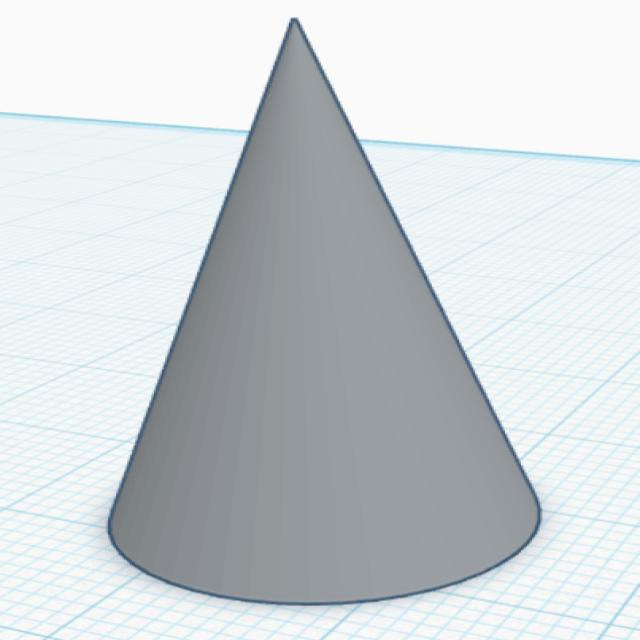cone: (98, 15, 552, 609)
